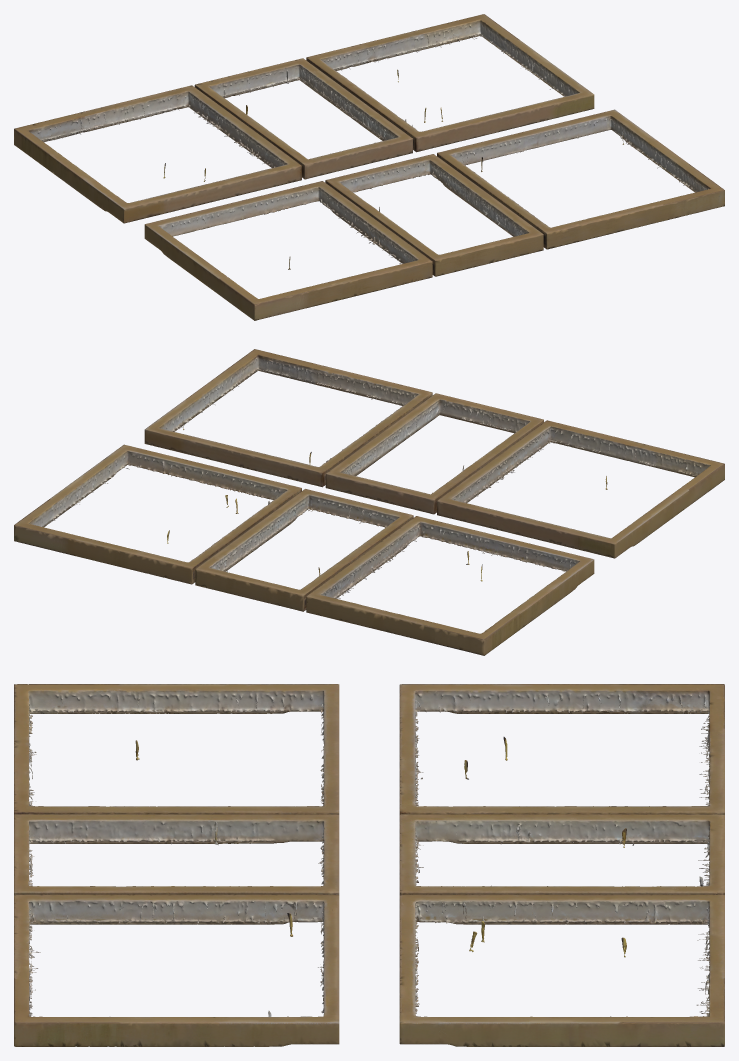
File: Sawah_Model.fbx
3 renders of one model, top to bottom at view 1: azimuth 30°, elevation 25°; view 2: azimuth 150°, elevation 25°; view 3: azimuth 270°, elevation 25°, orthographic. The views are drawn at different scales.
Visible parts, largest first — view 1: Mesh_0; view 2: Mesh_0; view 3: Mesh_0.
Part boxes in pixels (box(x1,y1,x2,y2)): Mesh_0: box(14, 14, 724, 320); Mesh_0: box(14, 349, 724, 655); Mesh_0: box(14, 684, 724, 1046).
Bounding box in the file's own units: 200 × 7.43 × 177.
Materials: 1 (1 with a texture image).
